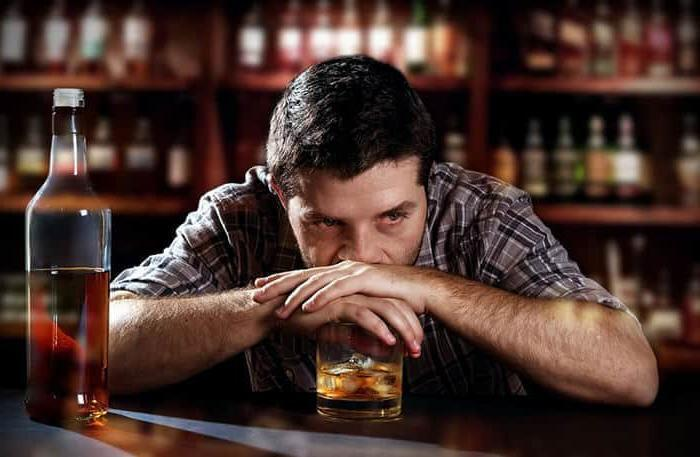Drunk: (298, 158, 423, 278)
